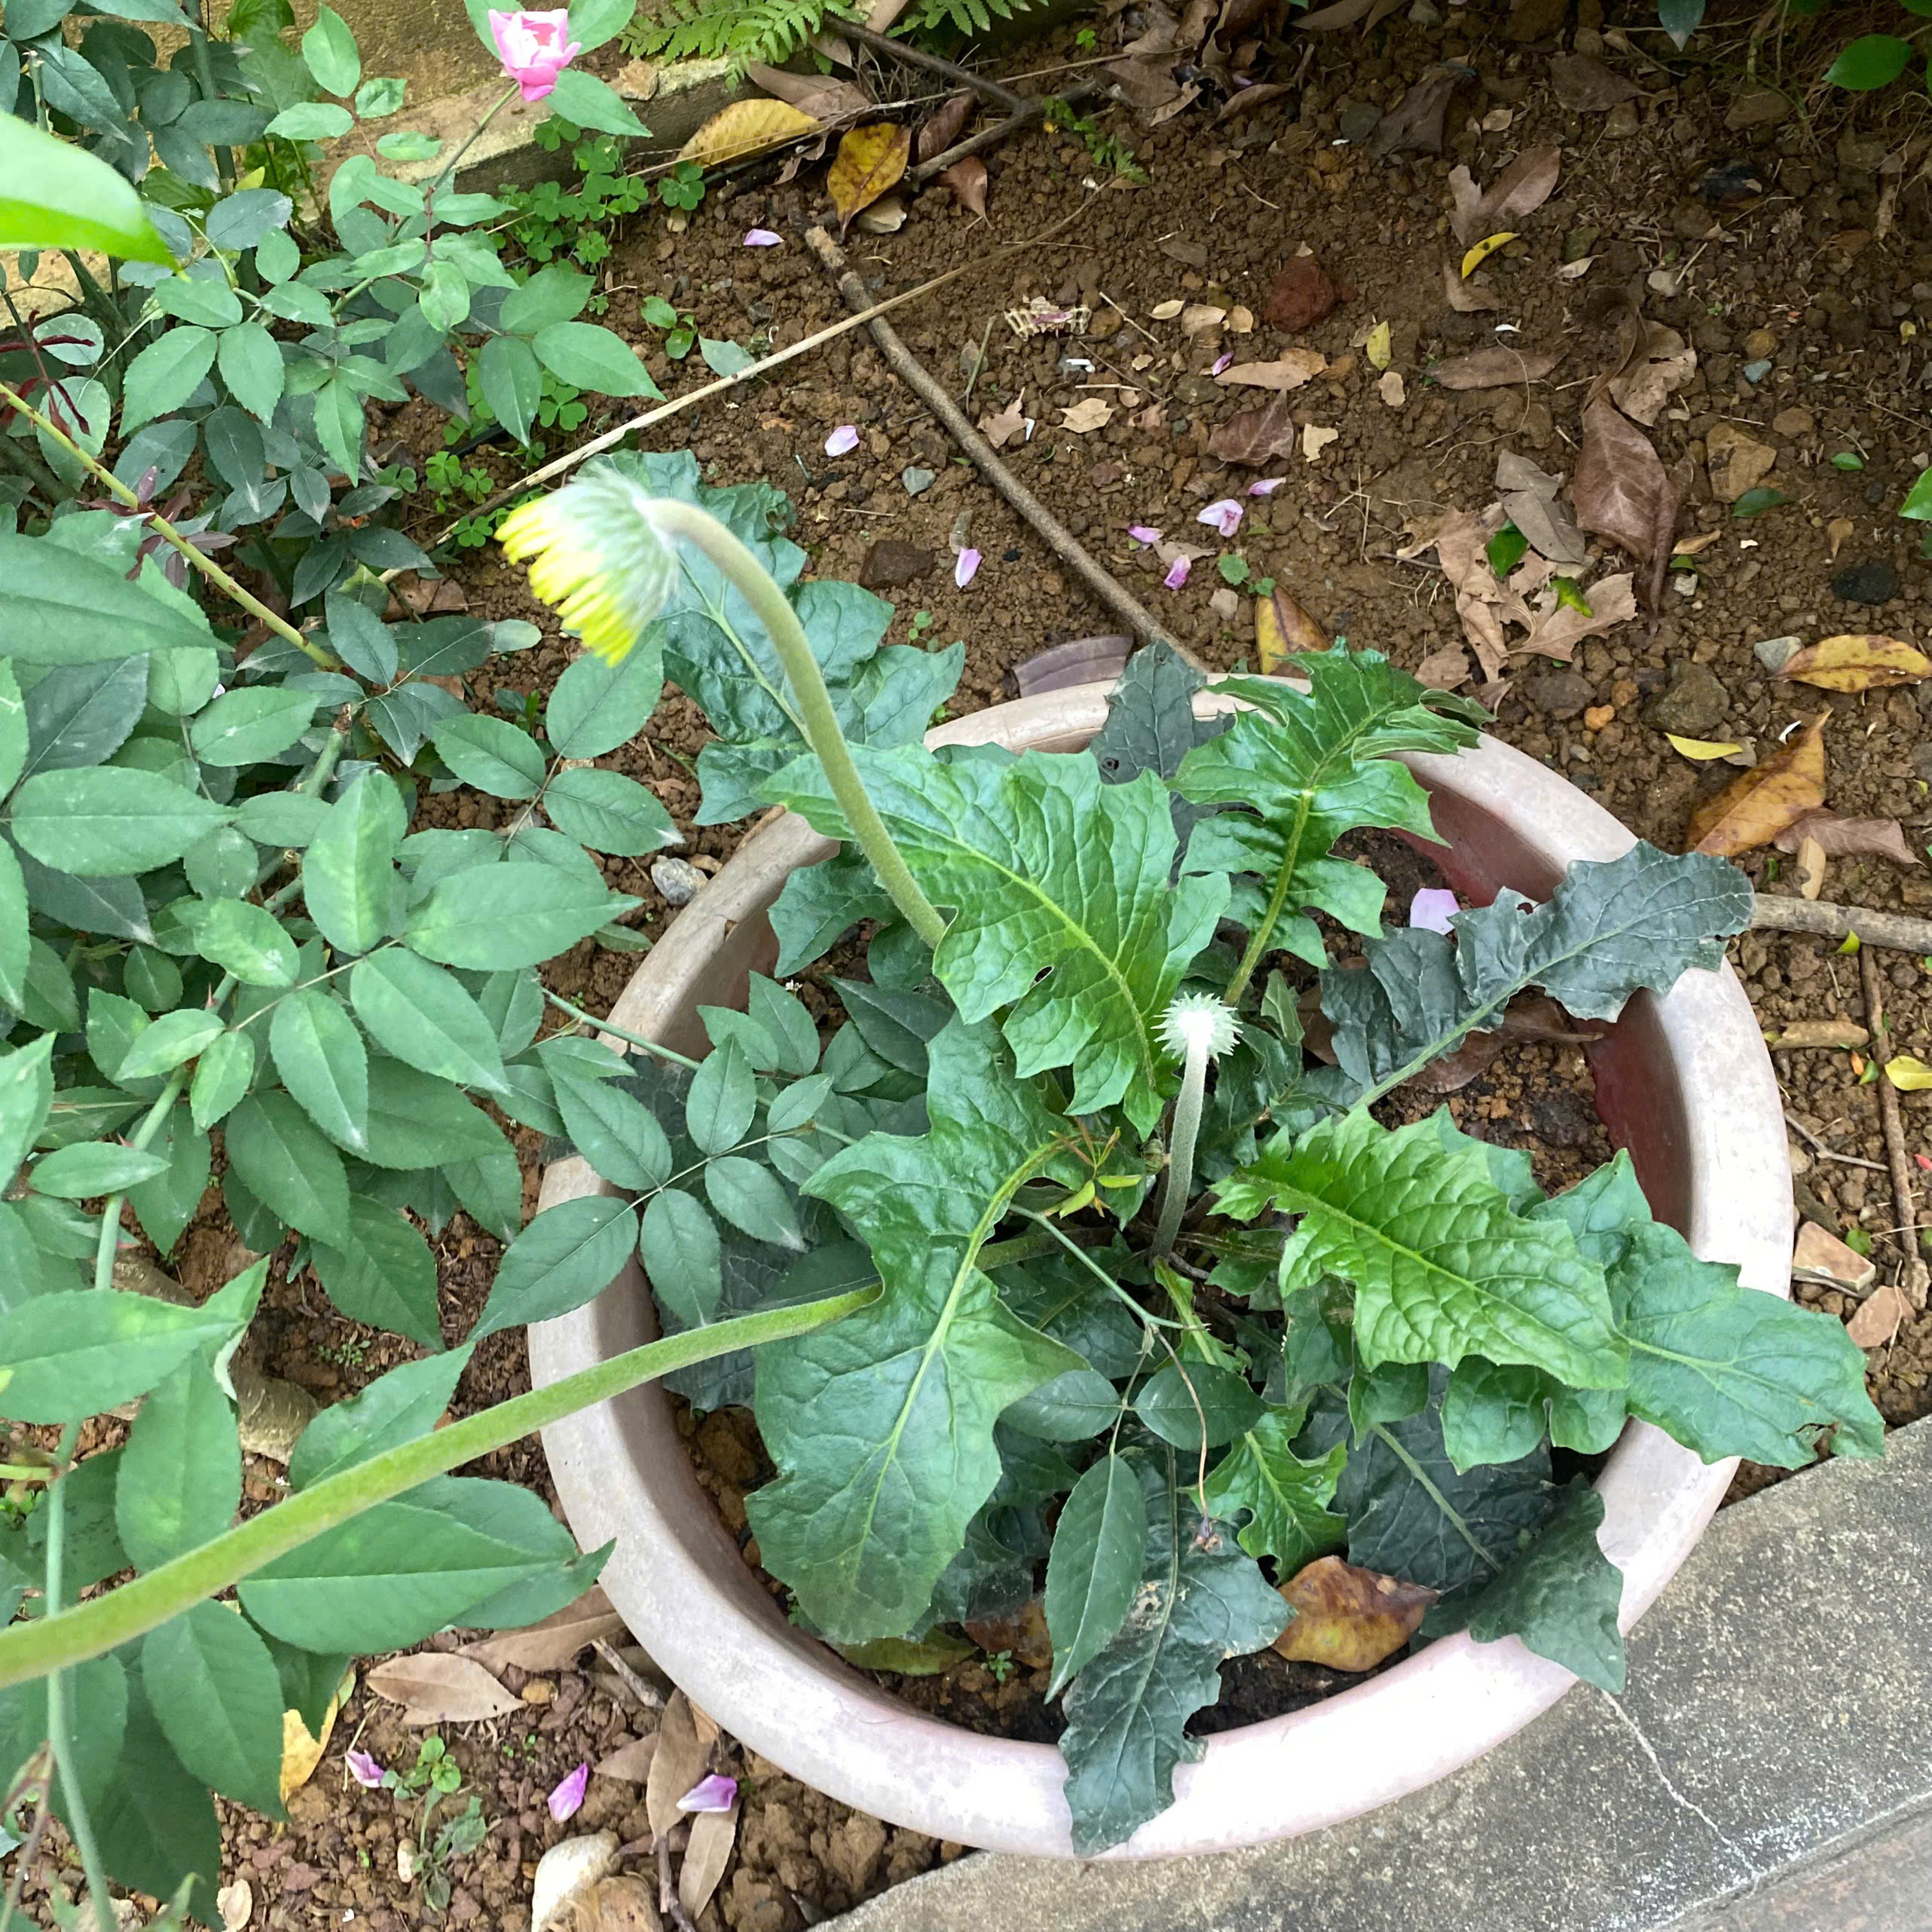hoa_huong_duong: (412, 387, 1845, 1790)
